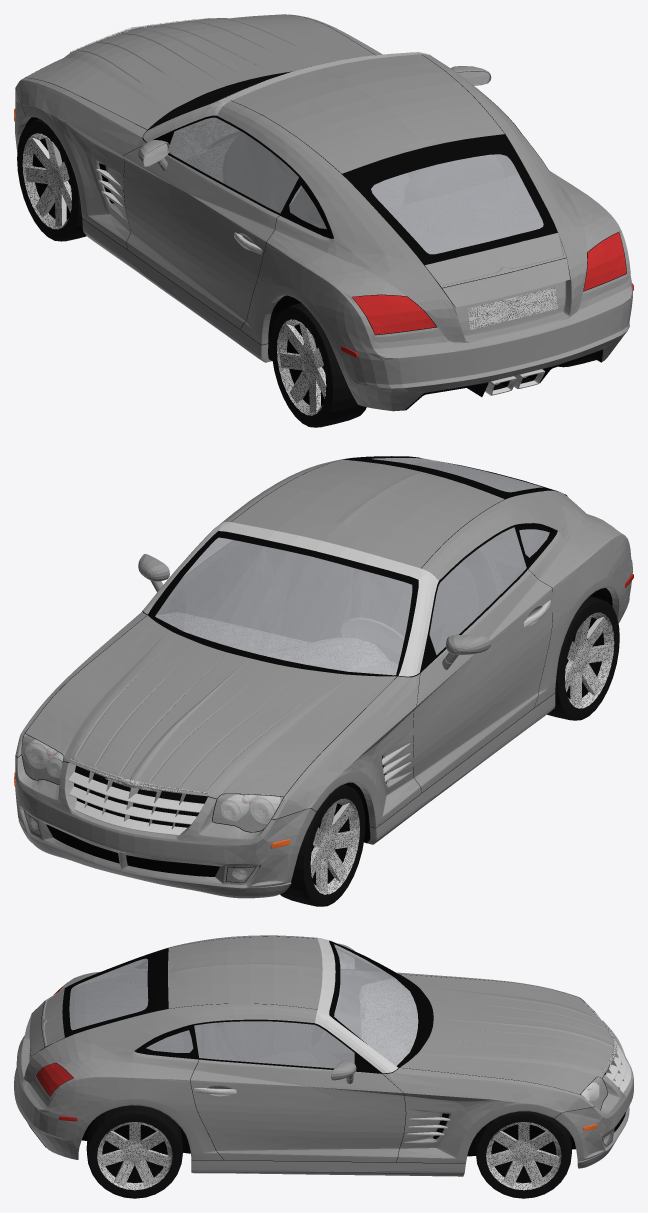
Rendered from car_019.dae.
3 views of the same model, one above another, from view 1: azimuth 30°, elevation 25°; view 2: azimuth 150°, elevation 25°; view 3: azimuth 270°, elevation 25° (orthographic). The views are drawn at different scales.
Parts seen in each view (by area): view 1: instance_2 (×13), instance_0 (×11), instance_5 (×2), instance_4, instance_1 (×3), instance_3; view 2: instance_2 (×11), instance_0 (×16), instance_1 (×9), instance_5 (×3); view 3: instance_2 (×12), instance_0 (×9), instance_1 (×6), instance_5 (×3), instance_4, instance_3 (×2).
Part boxes in pixels (left/top/right/bottom): instance_2 (×13): left=15, top=14, right=632, bottom=411; instance_0 (×11): left=17, top=72, right=557, bottom=427; instance_5 (×2): left=155, top=116, right=557, bottom=264; instance_4: left=425, top=233, right=566, bottom=287; instance_1 (×3): left=22, top=133, right=409, bottom=415; instance_3: left=281, top=178, right=330, bottom=236; instance_2 (×11): left=15, top=458, right=632, bottom=844; instance_0 (×16): left=46, top=462, right=619, bottom=906; instance_1 (×9): left=22, top=537, right=614, bottom=894; instance_5 (×3): left=15, top=456, right=557, bottom=898; instance_2 (×12): left=14, top=935, right=613, bottom=1176; instance_0 (×9): left=62, top=970, right=571, bottom=1198; instance_1 (×6): left=97, top=944, right=607, bottom=1190; instance_5 (×3): left=63, top=948, right=633, bottom=1168; instance_4: left=41, top=988, right=64, bottom=1046; instance_3 (×2): left=139, top=1010, right=361, bottom=1057.
Bounding box in the file's own units: 79.01 × 159 × 51.47.
